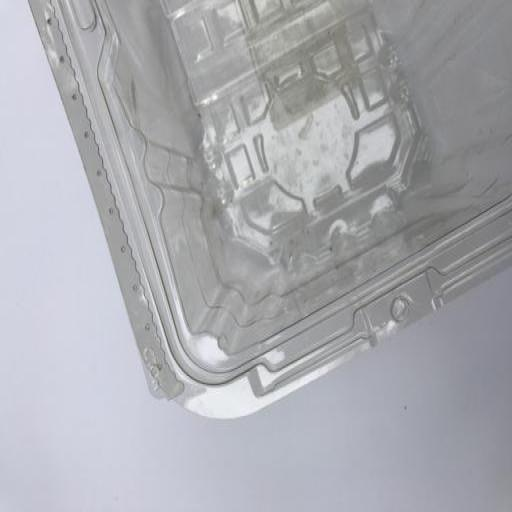waste: (19, 0, 512, 433)
